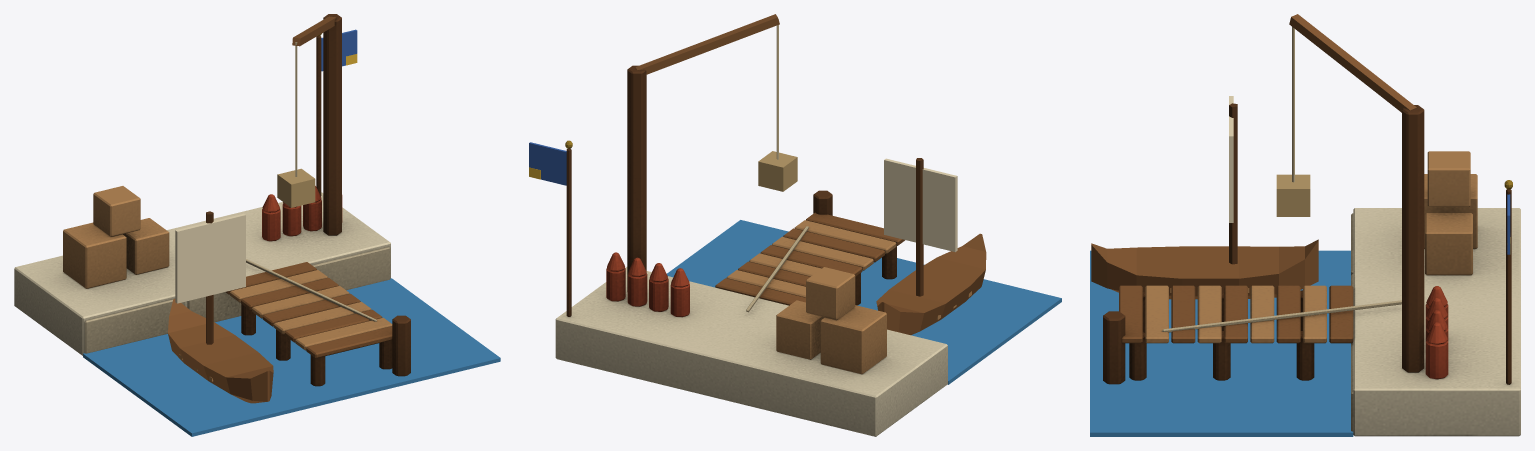
Rendered from port.glb.
3 renders of one model, left to right at view 1: azimuth 30°, elevation 25°; view 2: azimuth 150°, elevation 25°; view 3: azimuth 270°, elevation 25°, orthographic. The views are drawn at different scales.
Visible parts, largest first — view 1: port, anim_woda_port, anim_lodz, anim_obrot_z_zuraw, anim_kolys_flaga_port; view 2: port, anim_lodz, anim_woda_port, anim_obrot_z_zuraw, anim_kolys_flaga_port; view 3: port, anim_woda_port, anim_lodz, anim_obrot_z_zuraw.
Boxes of the visible parts, x1,y1,x2,y2 form: port: [14, 14, 410, 386]; anim_woda_port: [83, 278, 500, 436]; anim_lodz: [168, 211, 273, 403]; anim_obrot_z_zuraw: [277, 16, 336, 207]; anim_kolys_flaga_port: [321, 29, 357, 71]; port: [555, 65, 947, 436]; anim_lodz: [876, 158, 986, 335]; anim_woda_port: [667, 220, 1061, 384]; anim_obrot_z_zuraw: [635, 14, 797, 191]; anim_kolys_flaga_port: [529, 142, 566, 185]; port: [1103, 105, 1520, 436]; anim_woda_port: [1090, 250, 1353, 436]; anim_lodz: [1091, 96, 1318, 299]; anim_obrot_z_zuraw: [1276, 14, 1416, 216].
Bounding box in the file's own units: 1.97 × 1.62 × 1.8.
10 materials, 1 textured.
